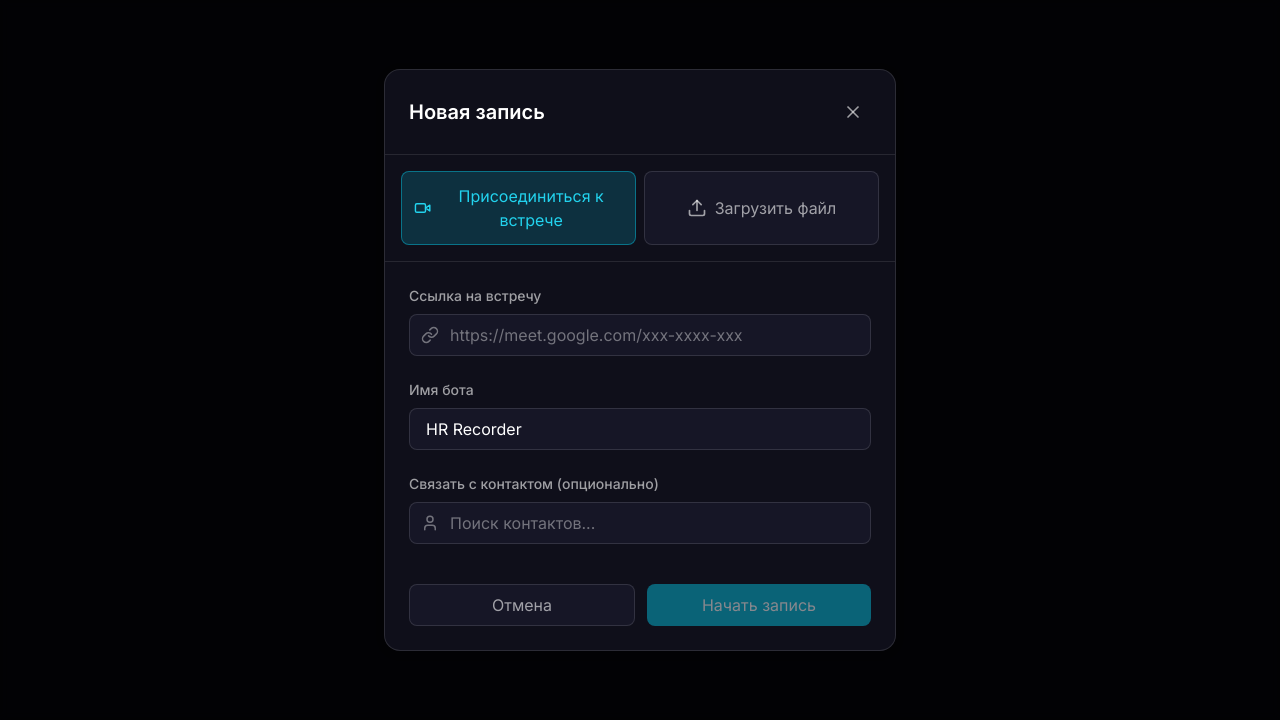
CallRecorderModal › Mode Switching › should switch to upload mode when upload tab is clicked
The image size is (1280, 720).
Click the button "Загрузить файл" at point(762, 208), box [644, 171, 879, 245]
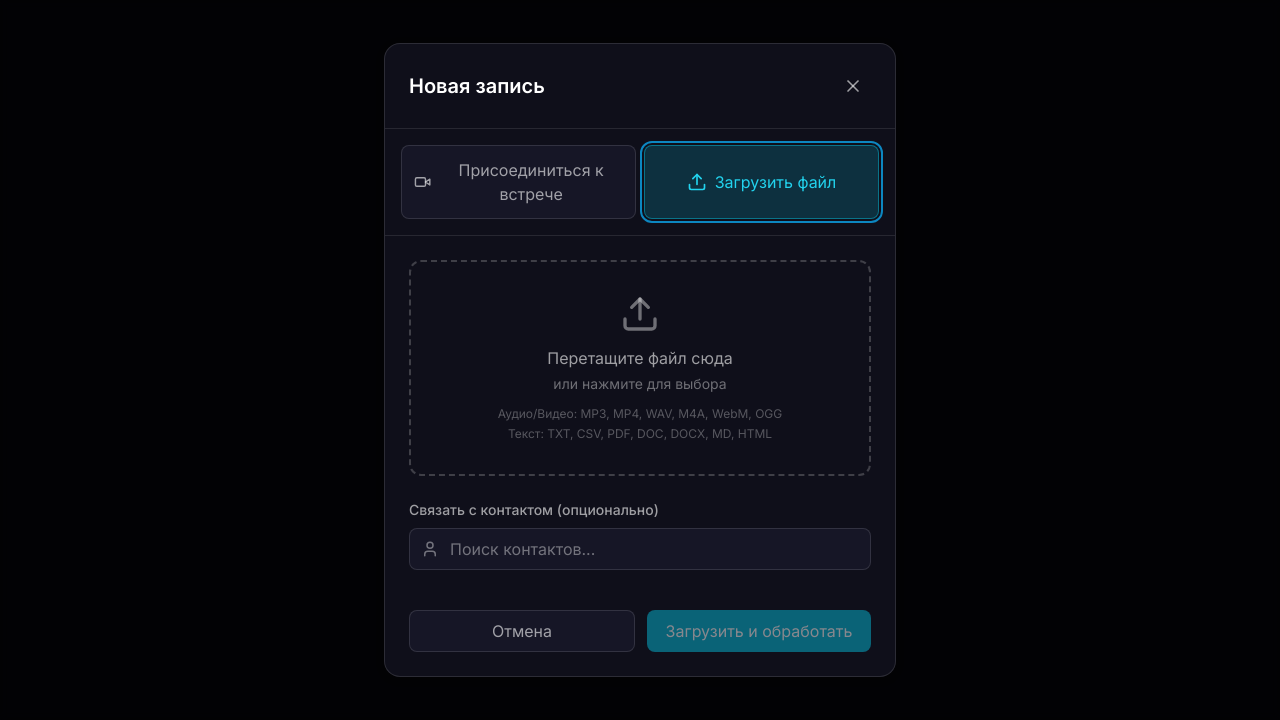
Check: the text "Загрузить и обработать" is shown, box [666, 619, 852, 643]
